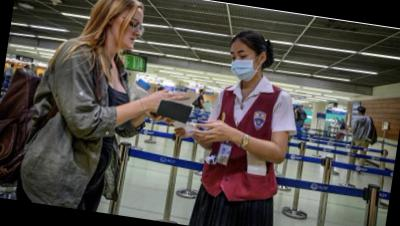with_mask: (227, 48, 263, 85)
without_mask: (110, 10, 146, 53)
